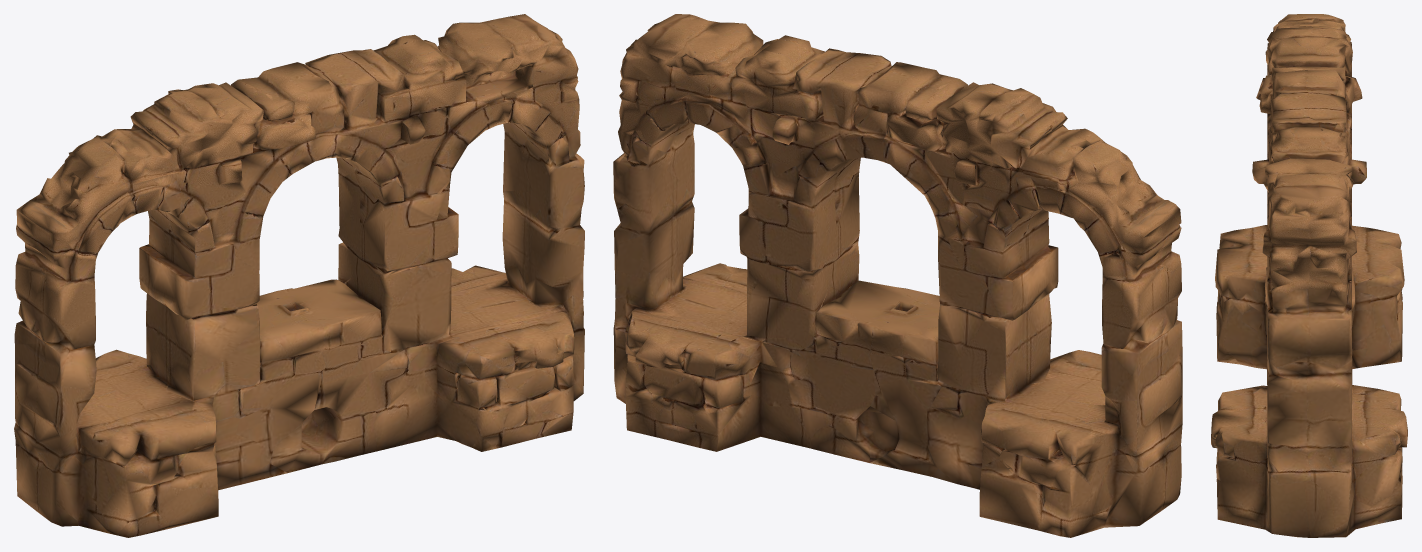
File: aqueduct.glb
3 views of the same model, side by side, from view 1: azimuth 30°, elevation 25°; view 2: azimuth 150°, elevation 25°; view 3: azimuth 270°, elevation 25° (orthographic). The views are drawn at different scales.
Size of the model in its own units: 1.9 by 1.28 by 0.6674.
1 material, 1 textured.
